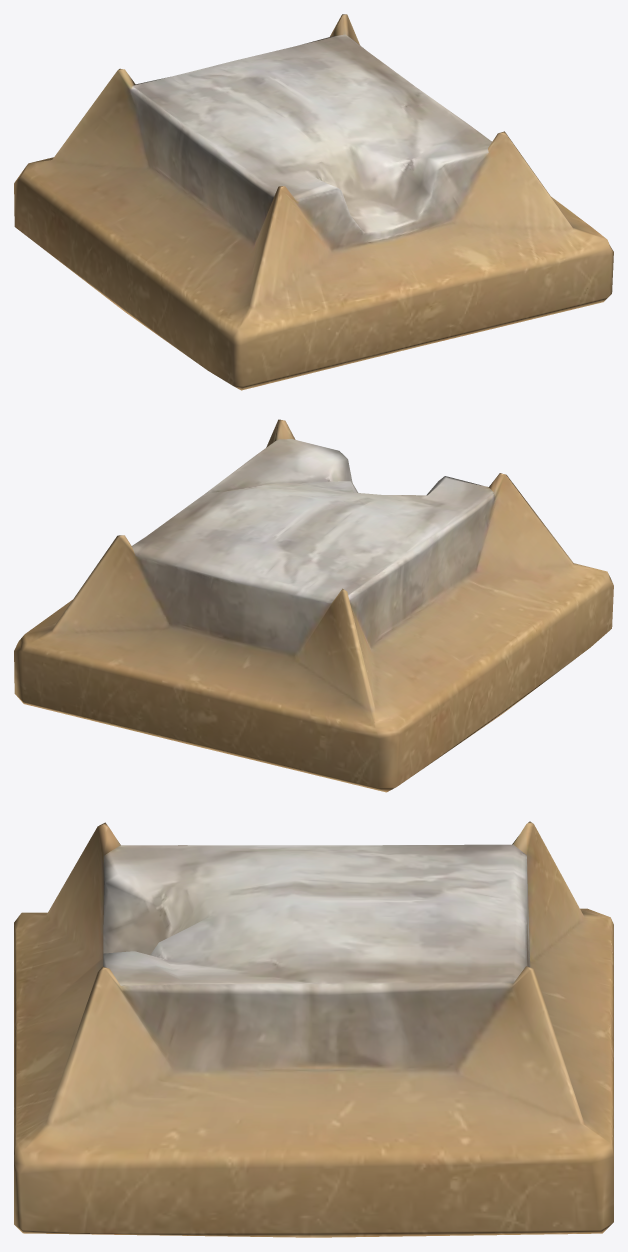
3 renders of one model, top to bottom at view 1: azimuth 30°, elevation 25°; view 2: azimuth 150°, elevation 25°; view 3: azimuth 270°, elevation 25°, orthographic. The views are drawn at different scales.
Parts seen in each view (by area): view 1: SM_Vault_Guardian_Melee_01_Vault_Guardian_Melee_Base_01_LOD0; view 2: SM_Vault_Guardian_Melee_01_Vault_Guardian_Melee_Base_01_LOD0; view 3: SM_Vault_Guardian_Melee_01_Vault_Guardian_Melee_Base_01_LOD0.
Part boxes in pixels (<box>): SM_Vault_Guardian_Melee_01_Vault_Guardian_Melee_Base_01_LOD0: <box>14,14,613,390</box>; SM_Vault_Guardian_Melee_01_Vault_Guardian_Melee_Base_01_LOD0: <box>14,419,613,792</box>; SM_Vault_Guardian_Melee_01_Vault_Guardian_Melee_Base_01_LOD0: <box>14,821,613,1237</box>.
Bounding box in the file's own units: 0.7661 × 0.3166 × 0.7811.
1 material, 1 textured.
